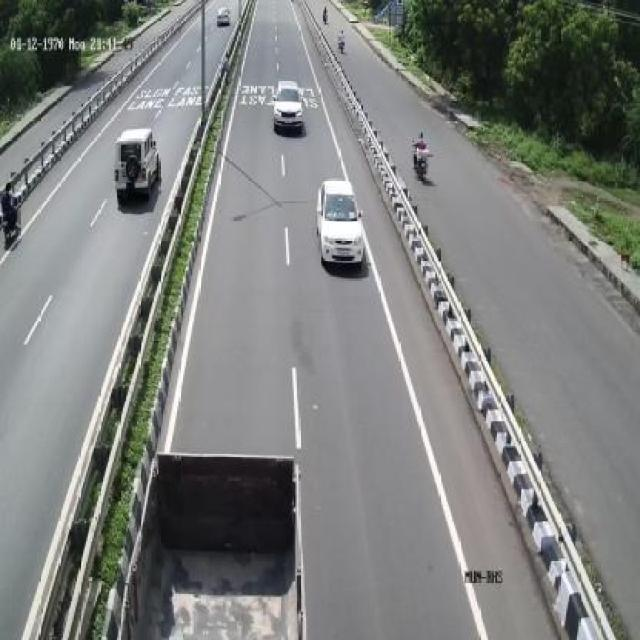car: (312, 171, 366, 278), (115, 123, 163, 209), (268, 72, 309, 142)
